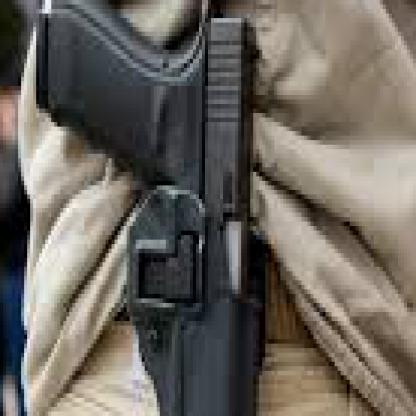gun: (0, 235, 413, 412)
